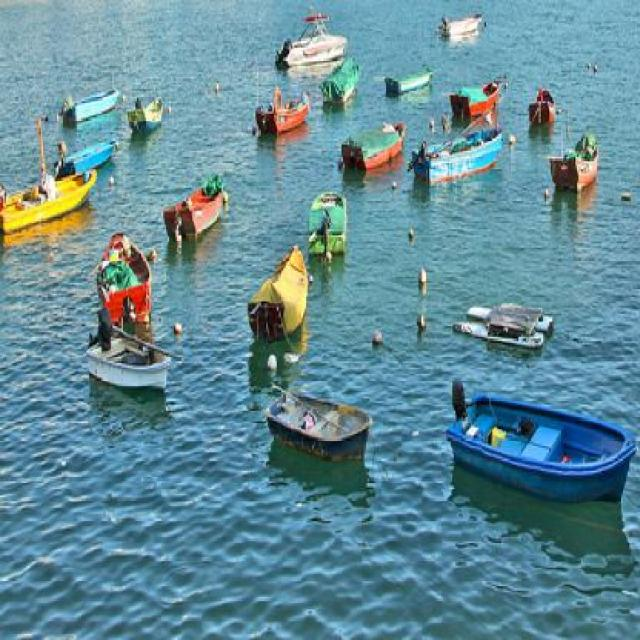ship: (447, 368, 638, 514), (266, 380, 376, 465), (88, 303, 168, 392), (0, 167, 100, 238), (245, 241, 312, 337), (407, 124, 508, 184), (272, 4, 346, 70), (161, 167, 222, 245), (98, 233, 150, 322), (334, 118, 404, 176), (252, 83, 310, 139), (55, 76, 120, 124), (447, 66, 501, 122), (548, 125, 594, 190), (308, 180, 347, 255), (52, 135, 117, 179), (433, 2, 481, 41), (527, 78, 558, 134), (384, 64, 431, 99), (126, 91, 162, 134)
